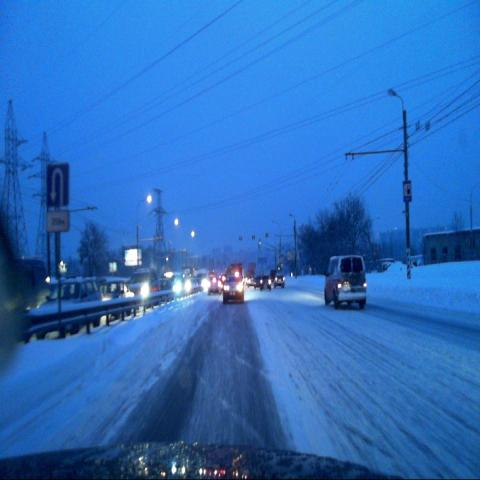6_3_1: (46, 163, 69, 206)
8_1_1: (46, 209, 69, 232)
